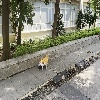fire: (40, 54, 49, 64)
